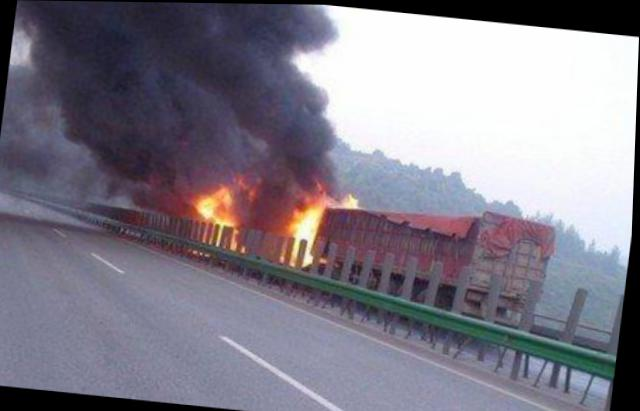fire: (192, 183, 238, 226), (284, 195, 321, 237)
